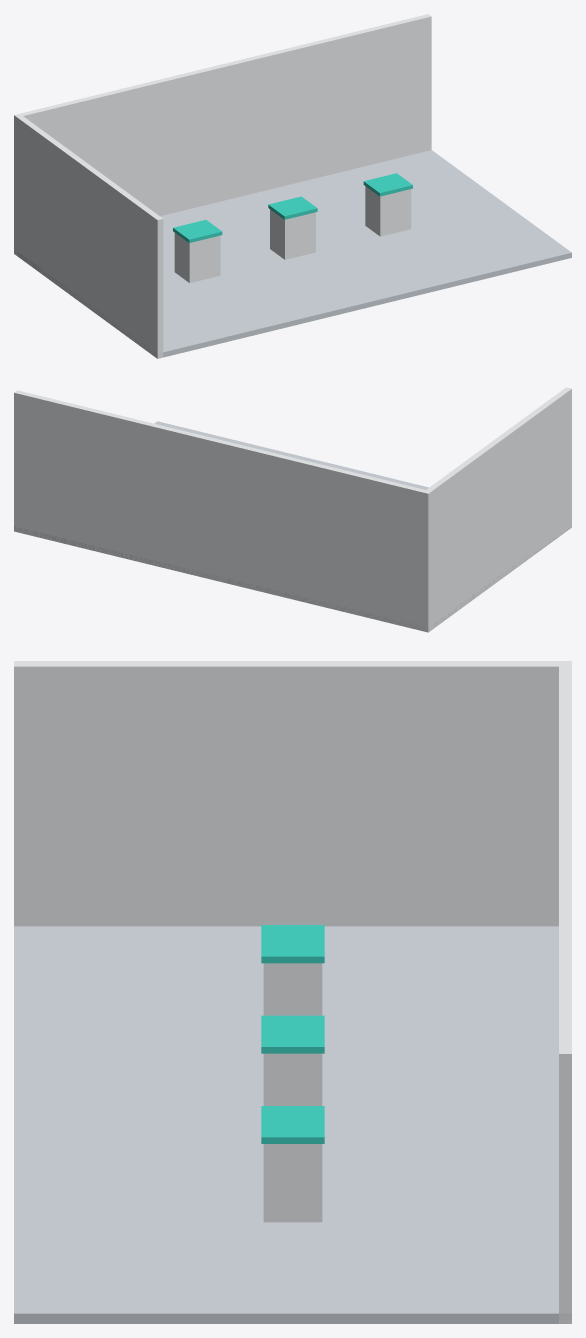
3 renders of one model, top to bottom at view 1: azimuth 30°, elevation 25°; view 2: azimuth 150°, elevation 25°; view 3: azimuth 270°, elevation 25°, orthographic. The views are drawn at different scales.
Visible parts, largest first — view 1: Exhibition Booth Concept; view 2: Exhibition Booth Concept; view 3: Exhibition Booth Concept.
Part boxes in pixels (left/top/right/bottom): Exhibition Booth Concept: left=14, top=14, right=571, bottom=358; Exhibition Booth Concept: left=14, top=387, right=571, bottom=632; Exhibition Booth Concept: left=14, top=661, right=571, bottom=1323.
Bounding box in the file's own units: 10 × 3.2 × 6.
